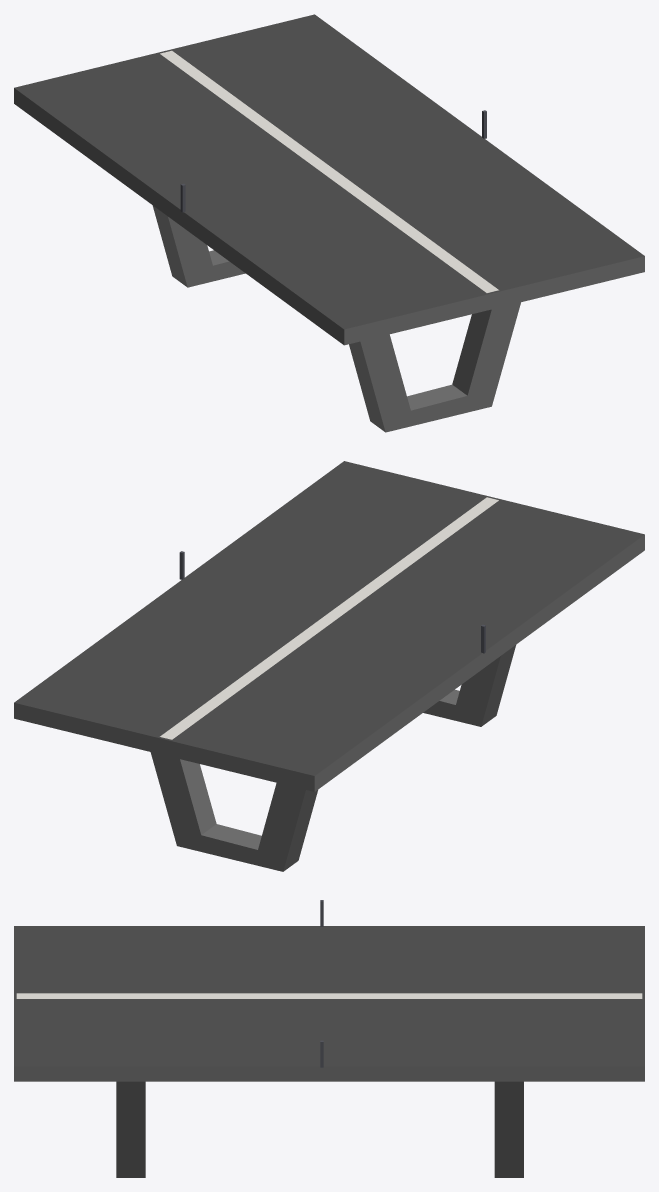
The model's file is Stol_pingpong.fbx.
3 views of the same model, one above another, from view 1: azimuth 30°, elevation 25°; view 2: azimuth 150°, elevation 25°; view 3: azimuth 270°, elevation 25° (orthographic). The views are drawn at different scales.
Parts seen in each view (by area): view 1: Cube; view 2: Cube; view 3: Cube.
Boxes of the visible parts, x1,y1,x2,y2 form: Cube: (14, 14, 644, 432); Cube: (14, 461, 644, 871); Cube: (14, 900, 644, 1177).
Size of the model in its own units: 326 by 105 by 173.
